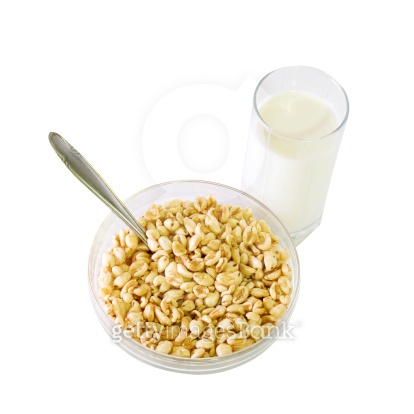glass of milk: (248, 63, 348, 243)
